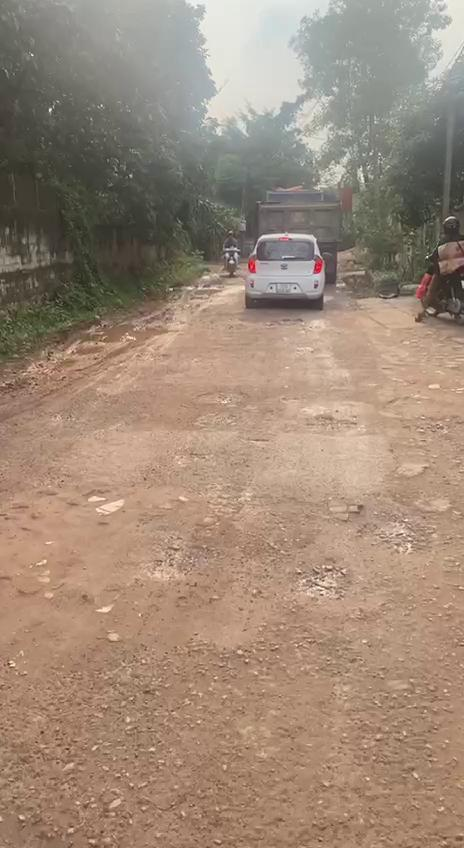pothole: (367, 510, 438, 556), (299, 558, 354, 602), (192, 386, 254, 410), (305, 410, 360, 436)
